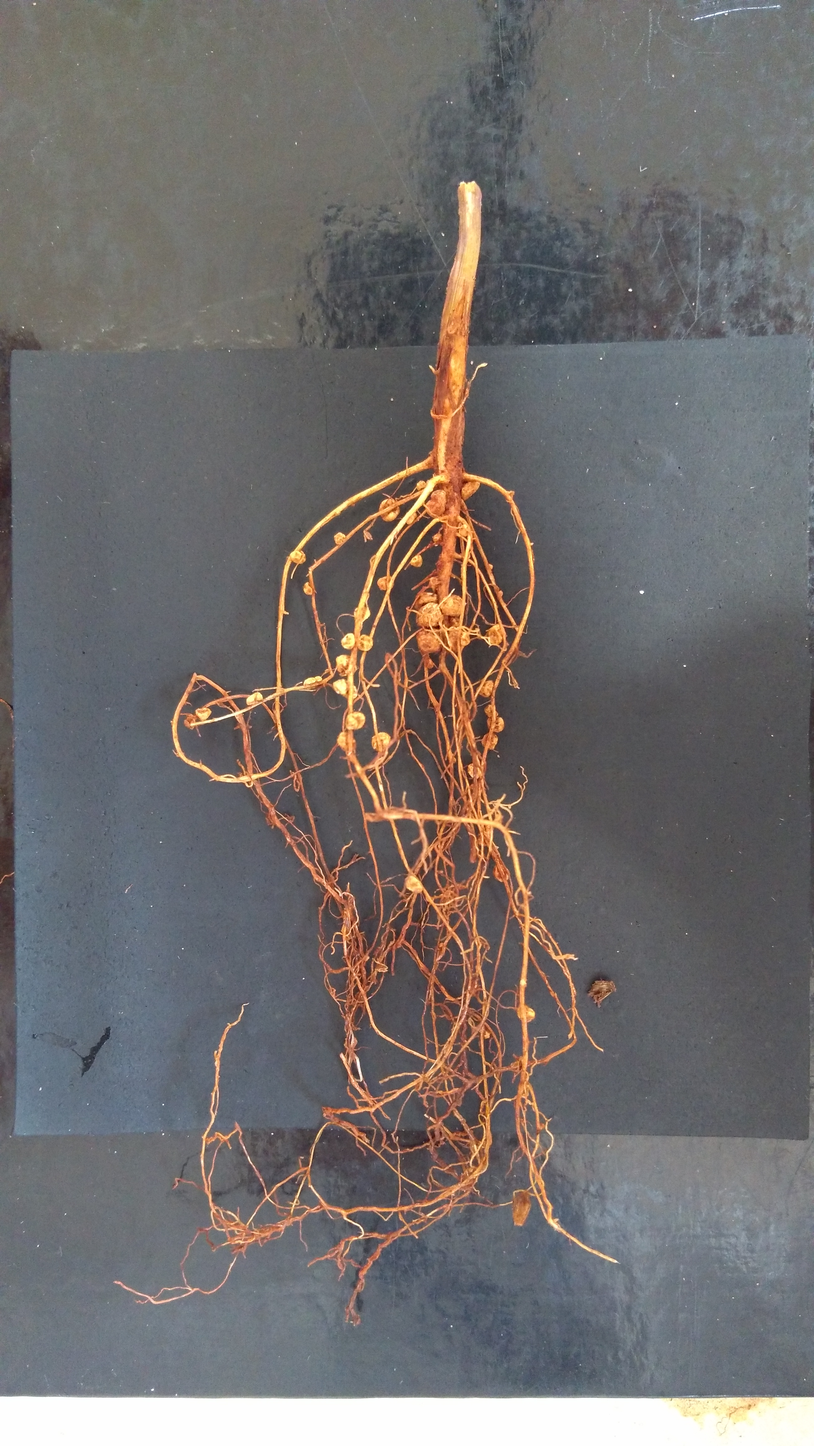nodule: (415, 629, 444, 656), (414, 602, 444, 628), (424, 489, 448, 517), (439, 594, 467, 617), (446, 625, 468, 654), (331, 677, 359, 698), (378, 498, 401, 523), (486, 623, 508, 646), (475, 678, 496, 700), (414, 591, 438, 610), (336, 731, 357, 752), (370, 731, 392, 751), (344, 711, 367, 730), (460, 480, 480, 501), (335, 653, 352, 675), (356, 633, 375, 652), (404, 875, 423, 894), (480, 731, 498, 751), (517, 1004, 535, 1023), (485, 716, 506, 732), (376, 575, 396, 591), (466, 762, 483, 780), (340, 632, 356, 651), (493, 864, 509, 883), (244, 691, 264, 706), (353, 606, 371, 621), (194, 707, 212, 722), (289, 550, 307, 564), (183, 714, 197, 731), (422, 655, 436, 670), (409, 554, 423, 568), (484, 704, 498, 718), (458, 523, 469, 539), (405, 512, 418, 525), (333, 532, 346, 545), (302, 581, 313, 596), (460, 631, 471, 646), (428, 576, 439, 590), (477, 835, 489, 847), (302, 676, 316, 686), (415, 480, 427, 491), (363, 530, 374, 542), (431, 532, 442, 543), (313, 675, 323, 683), (497, 589, 504, 600), (487, 562, 493, 570), (450, 757, 457, 763)
